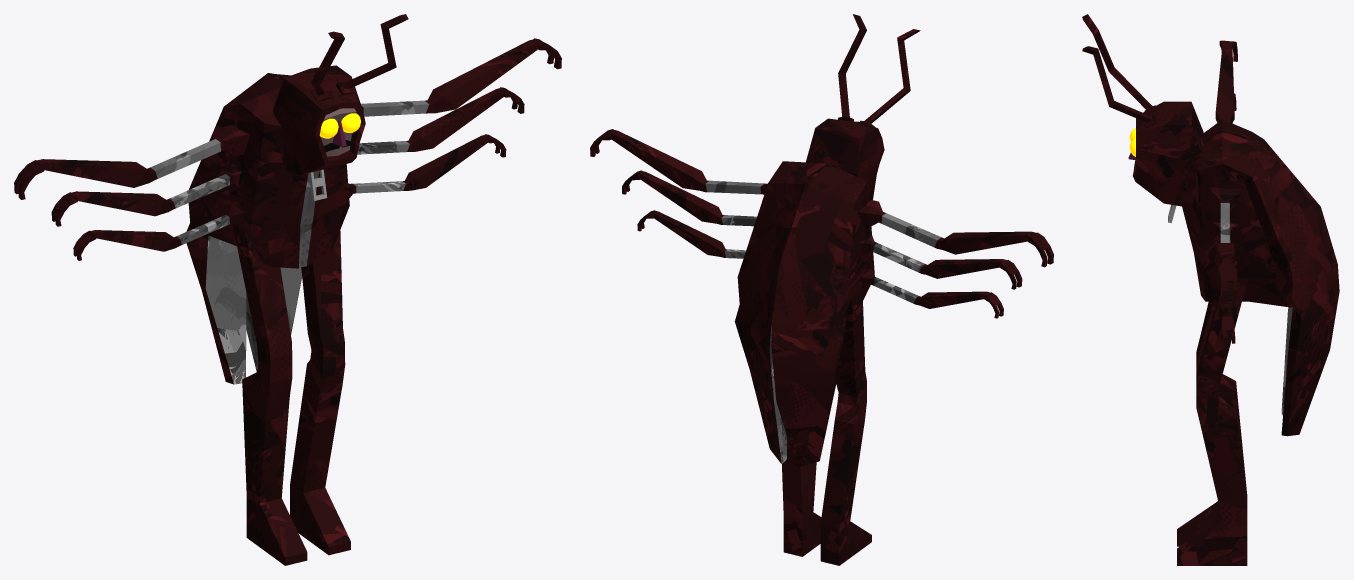
The model's file is cucaman bien con textura1.glb.
3 renders of one model, left to right at view 1: azimuth 30°, elevation 25°; view 2: azimuth 150°, elevation 25°; view 3: azimuth 270°, elevation 25°, orthographic. The views are drawn at different scales.
Visible parts, largest first — view 1: cucaman.003; view 2: cucaman.003; view 3: cucaman.003.
Part boxes in pixels (<box>): cucaman.003: <box>14,14,561,565</box>; cucaman.003: <box>590,14,1053,565</box>; cucaman.003: <box>1082,14,1339,565</box>.
Size of the model in its own units: 2.31 by 2.32 by 1.04.
7 materials, 2 textured.
